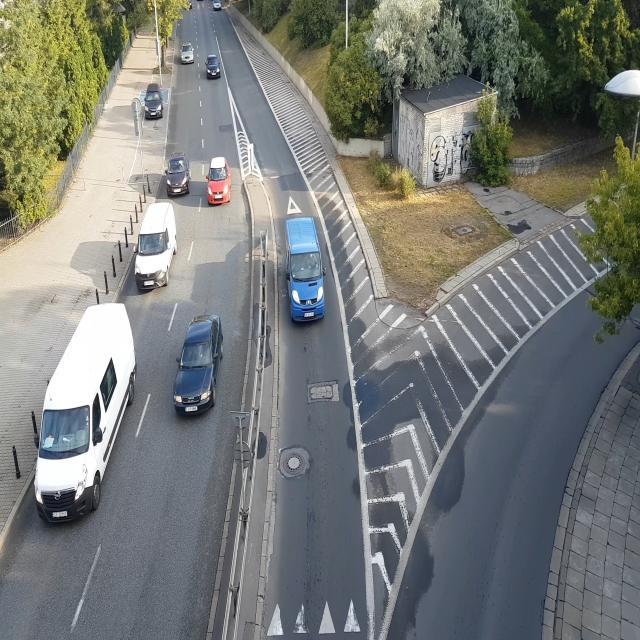car: (36, 302, 136, 521), (174, 317, 222, 417), (286, 217, 328, 323), (133, 201, 177, 292), (207, 158, 232, 206), (165, 154, 193, 196), (143, 86, 167, 118), (182, 43, 197, 65), (206, 56, 220, 78), (213, 2, 225, 12)
